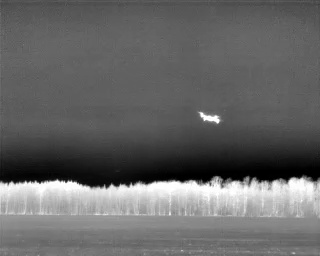DRONE: (194, 107, 225, 129)
